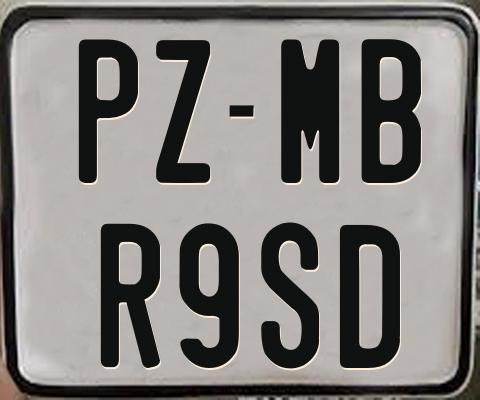9: (179, 221, 241, 372)
B: (360, 37, 421, 187)
D: (338, 224, 402, 371)
M: (281, 36, 345, 183)
P: (77, 37, 141, 184)
R: (99, 222, 164, 368)
S: (259, 220, 322, 368)
Z: (156, 37, 212, 182)
